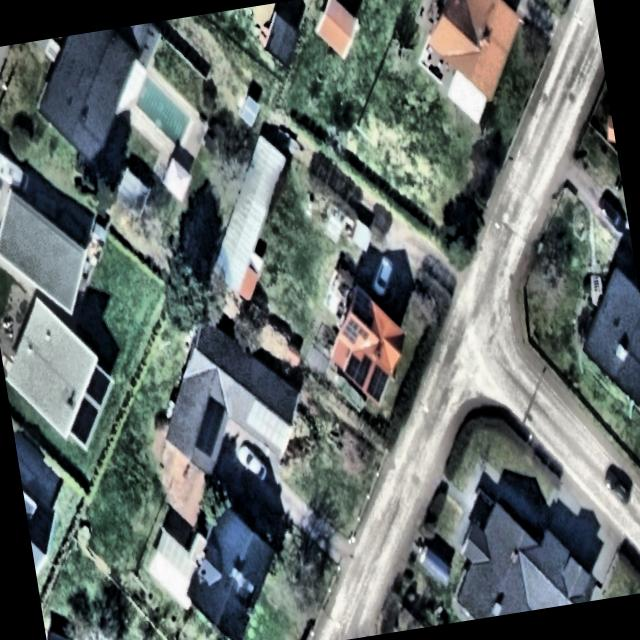roof_pv: (189, 390, 234, 459), (65, 391, 103, 449), (362, 359, 393, 406), (342, 348, 376, 388), (85, 367, 114, 410), (340, 312, 371, 350)
